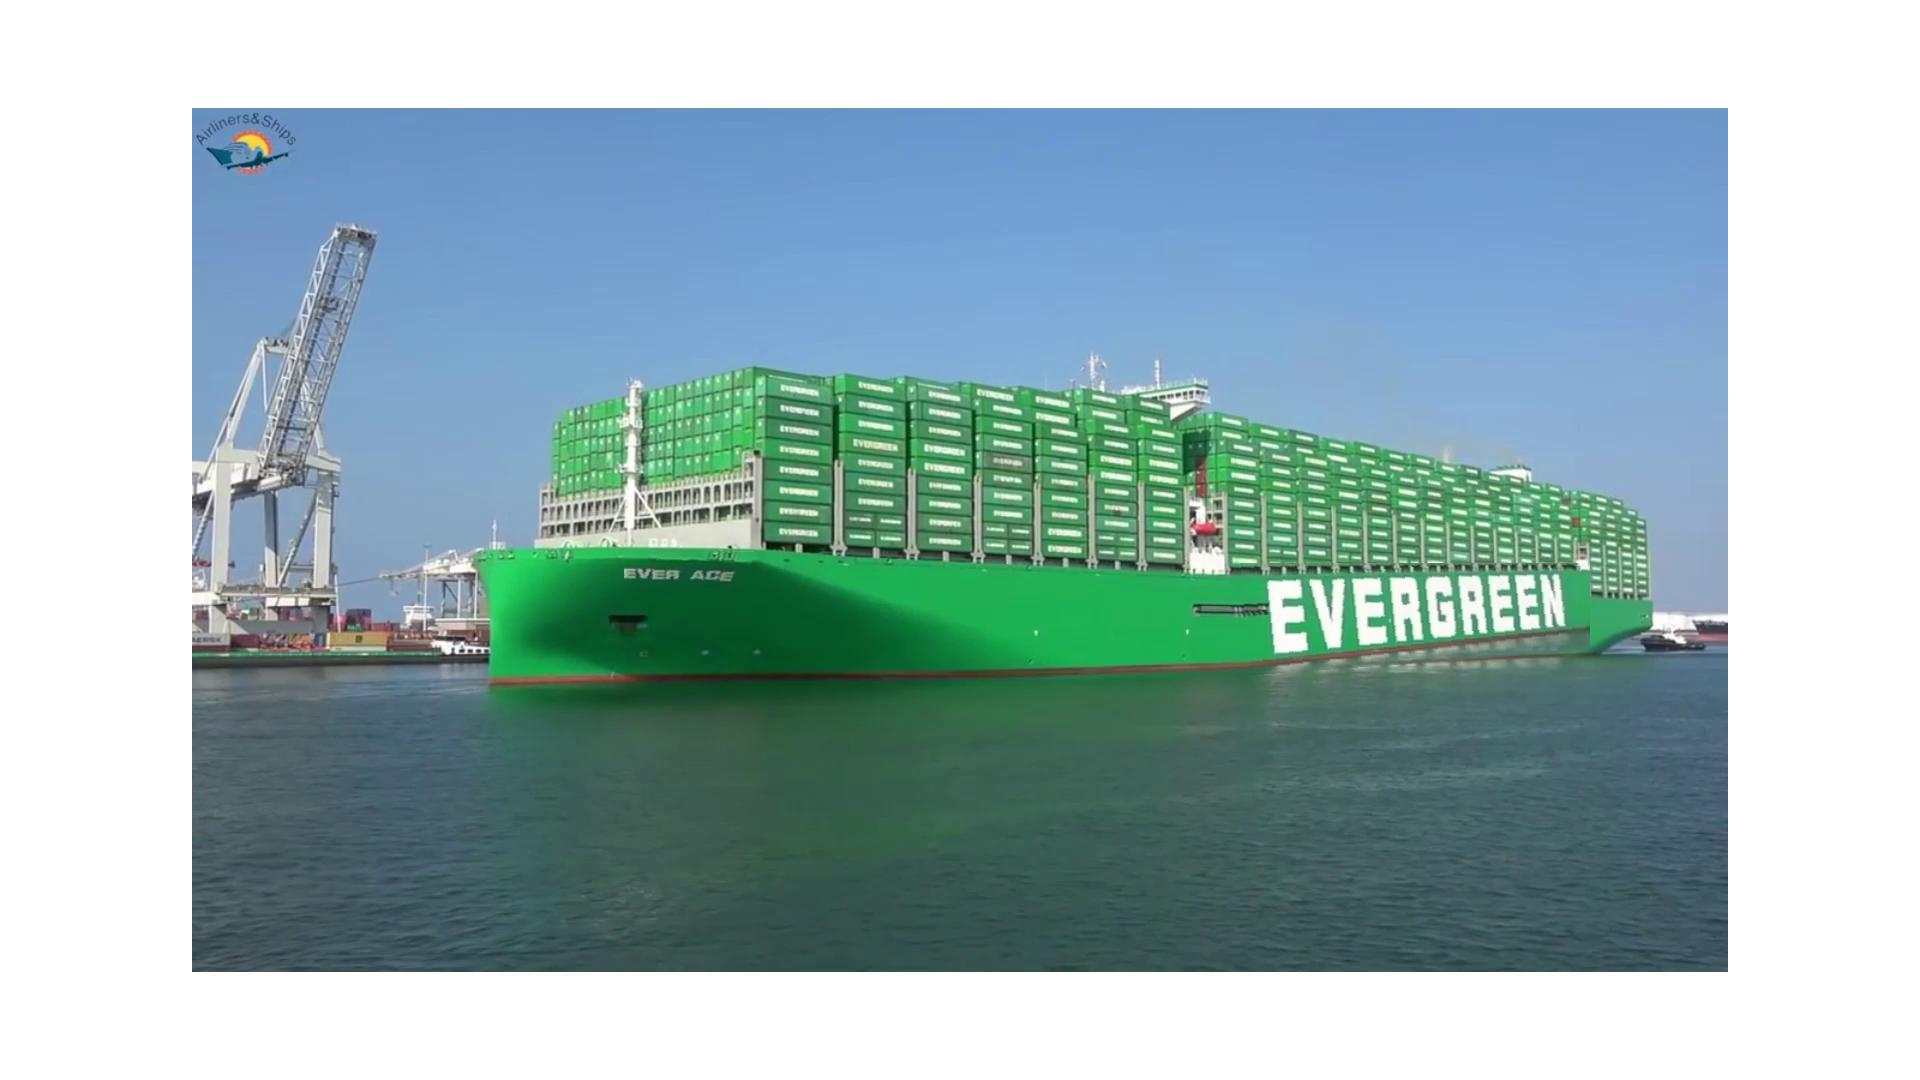OCR: (1233, 563, 1590, 676), (624, 549, 754, 600)
